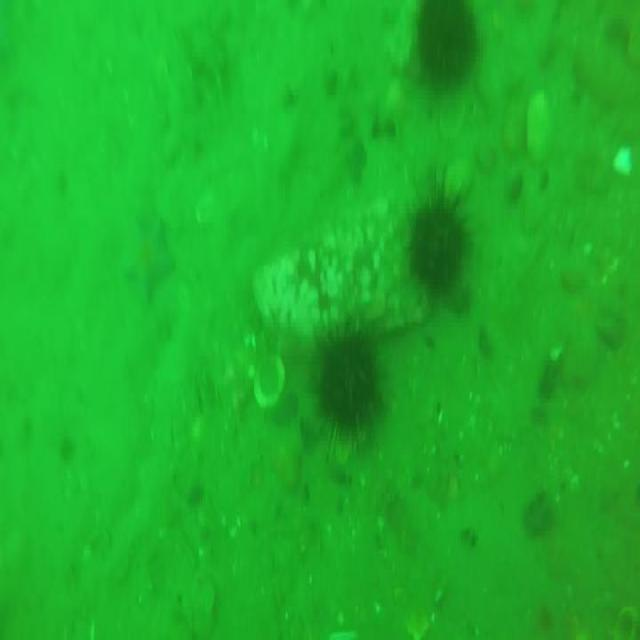echinus: (310, 328, 398, 468), (411, 156, 476, 298), (411, 3, 480, 93)
scallop: (526, 92, 558, 158), (252, 354, 286, 406)
starfish: (119, 216, 175, 305)
